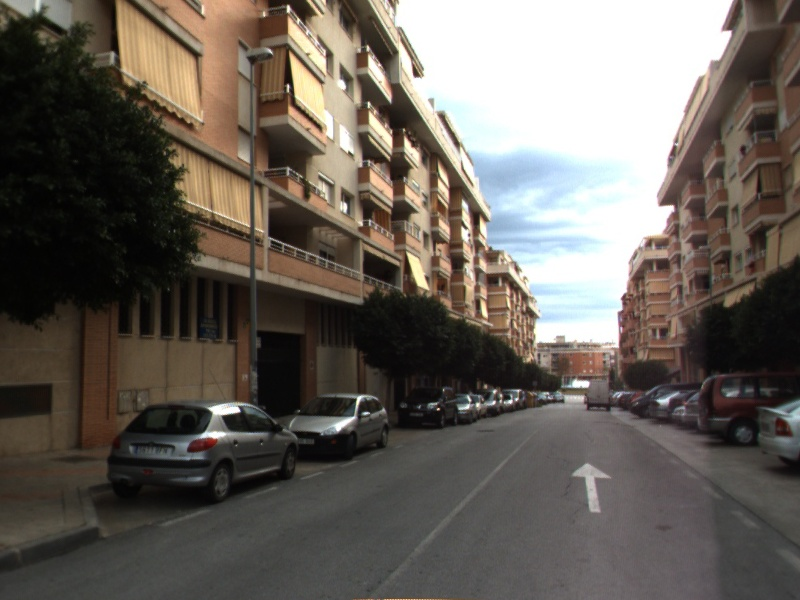STRAIGHT: (568, 460, 614, 514)
